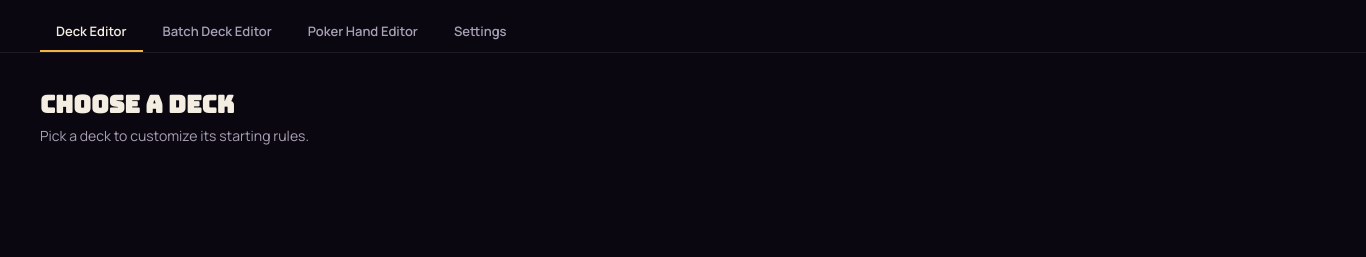
MainTabs › switches to the batch edit flow when its tab is clicked
Expected: the heading "Choose a deck" is shown, [40, 89, 234, 120]
What coordinates should you click on to do the following:
click the tab "Batch Deck Editor"
I would click on:
 (217, 32)
Its box is [146, 12, 288, 52].
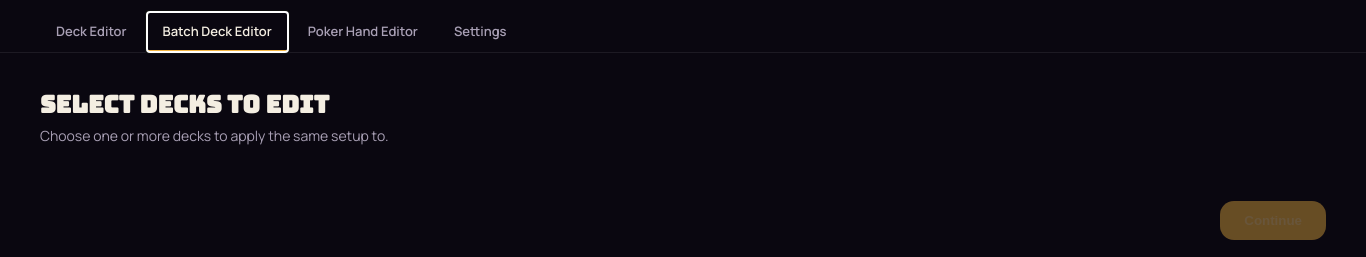
Now the heading "Select decks to edit" is shown, box [40, 89, 329, 120]
